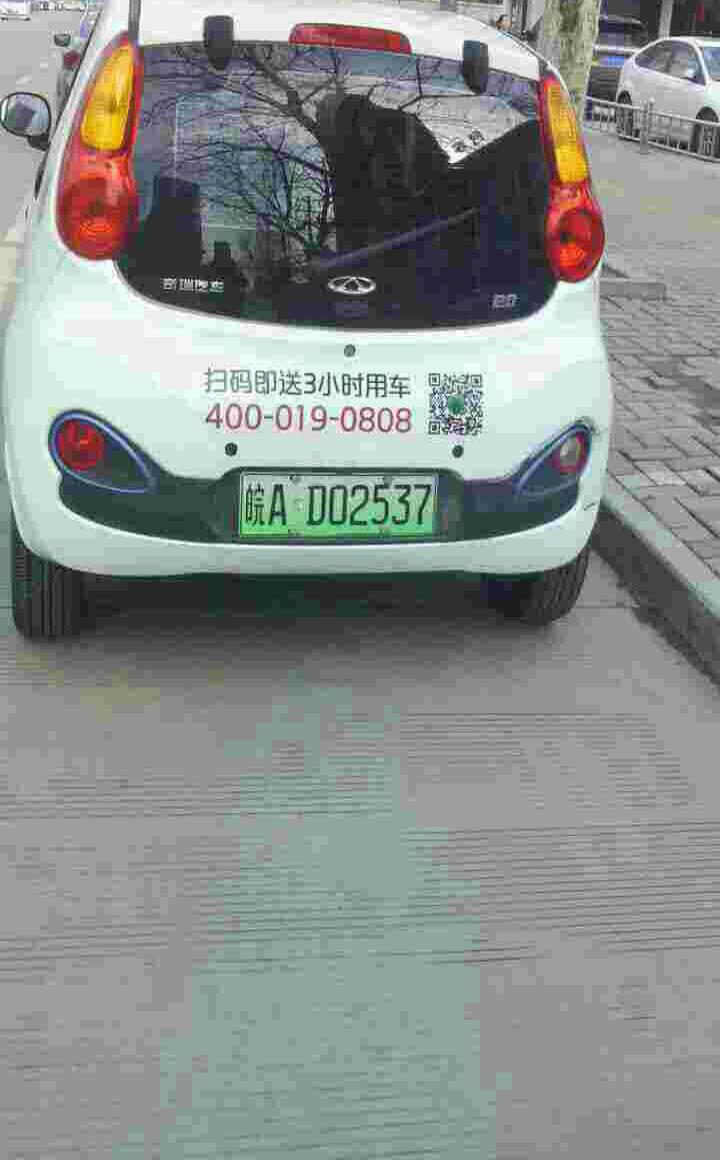car: (238, 477, 445, 548)
